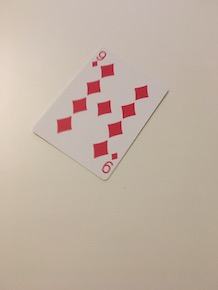NineOfDiamonds: (32, 47, 171, 182)
